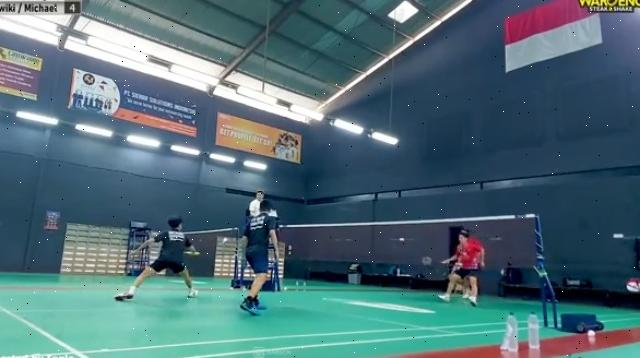Shuttlecock: (220, 234, 232, 246)
